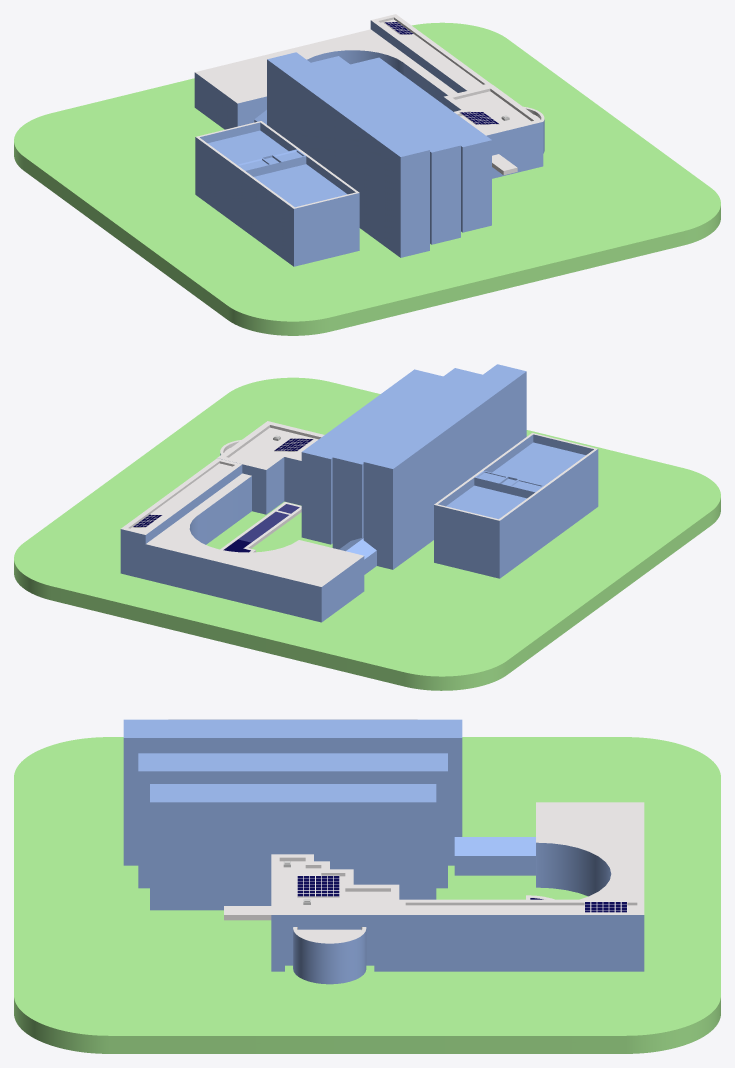
3 renders of one model, top to bottom at view 1: azimuth 30°, elevation 25°; view 2: azimuth 150°, elevation 25°; view 3: azimuth 270°, elevation 25°, orthographic. The views are drawn at different scales.
Visible parts, largest first — view 1: Plane.001, Cube.002, Cube.004, Cube.005, Cube.001, Cube, Cube.003; view 2: Plane.001, Cube.005, Cube.002, Cube.004, Cube.001, Cube, Cube.003, Pool, Cube.006; view 3: Plane.001, Cube, Cube.005, Cube.002, Cube.001, Cube.003, Cylinder.001, Cube.006, Cube.009.
Part boxes in pixels (x1=…): Plane.001: x1=14, y1=22, x2=720, y2=335; Cube.002: x1=267, y1=52, x2=429, y2=257; Cube.004: x1=195, y1=121, x2=359, y2=266; Cube.005: x1=194, y1=14, x2=491, y2=129; Cube.001: x1=311, y1=56, x2=460, y2=244; Cube: x1=350, y1=57, x2=491, y2=232; Cube.003: x1=443, y1=84, x2=543, y2=178; Plane.001: x1=14, y1=377, x2=720, y2=690; Cube.005: x1=120, y1=458, x2=364, y2=622; Cube.002: x1=363, y1=364, x2=526, y2=569; Cube.004: x1=434, y1=433, x2=598, y2=578; Cube.001: x1=332, y1=368, x2=482, y2=549; Cube: x1=301, y1=369, x2=442, y2=544; Cube.003: x1=217, y1=421, x2=324, y2=514; Pool: x1=220, y1=502, x2=301, y2=552; Cube.006: x1=339, y1=537, x2=376, y2=574; Plane.001: x1=14, y1=737, x2=720, y2=1053; Cube: x1=150, y1=784, x2=436, y2=910; Cube.005: x1=399, y1=802, x2=644, y2=971; Cube.002: x1=123, y1=719, x2=462, y2=865; Cube.001: x1=138, y1=753, x2=447, y2=888; Cube.003: x1=224, y1=854, x2=399, y2=971; Cylinder.001: x1=293, y1=927, x2=366, y2=984; Cube.006: x1=454, y1=837, x2=535, y2=875; Cube.009: x1=297, y1=875, x2=339, y2=897.
Bounding box in the file's own units: 2.47 × 0.561 × 2.47.
